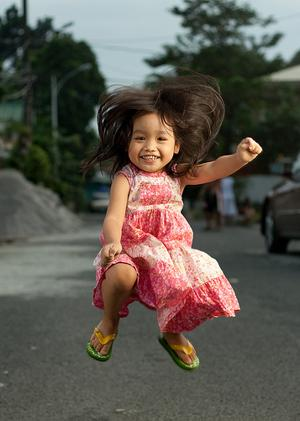person: (87, 86, 262, 372)
